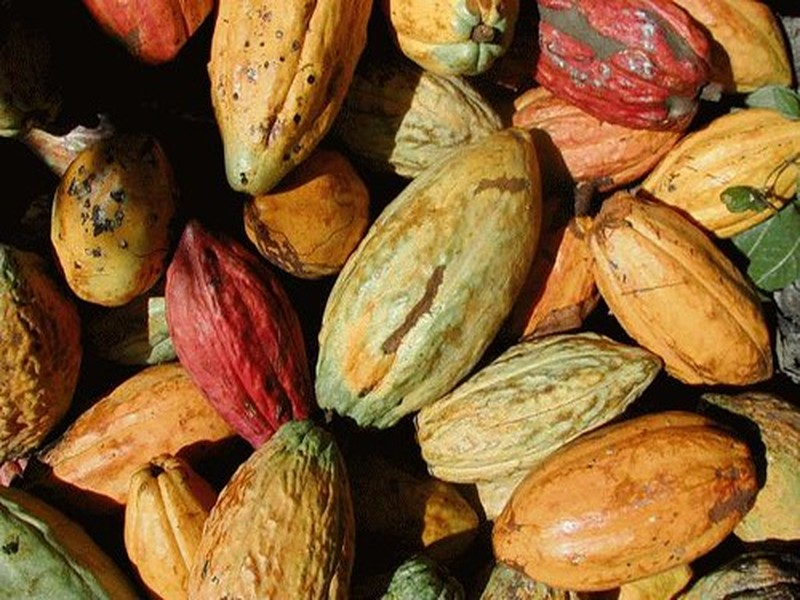Cacaopod: (313, 122, 540, 430)
